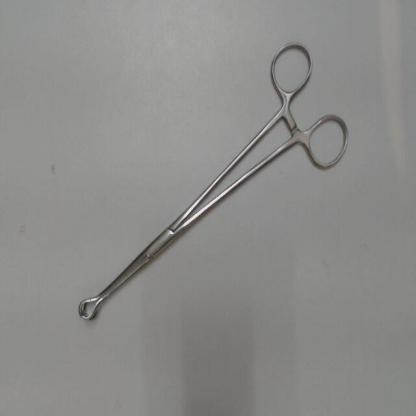8 Babcock Tissue Forceps: (73, 32, 352, 328)
